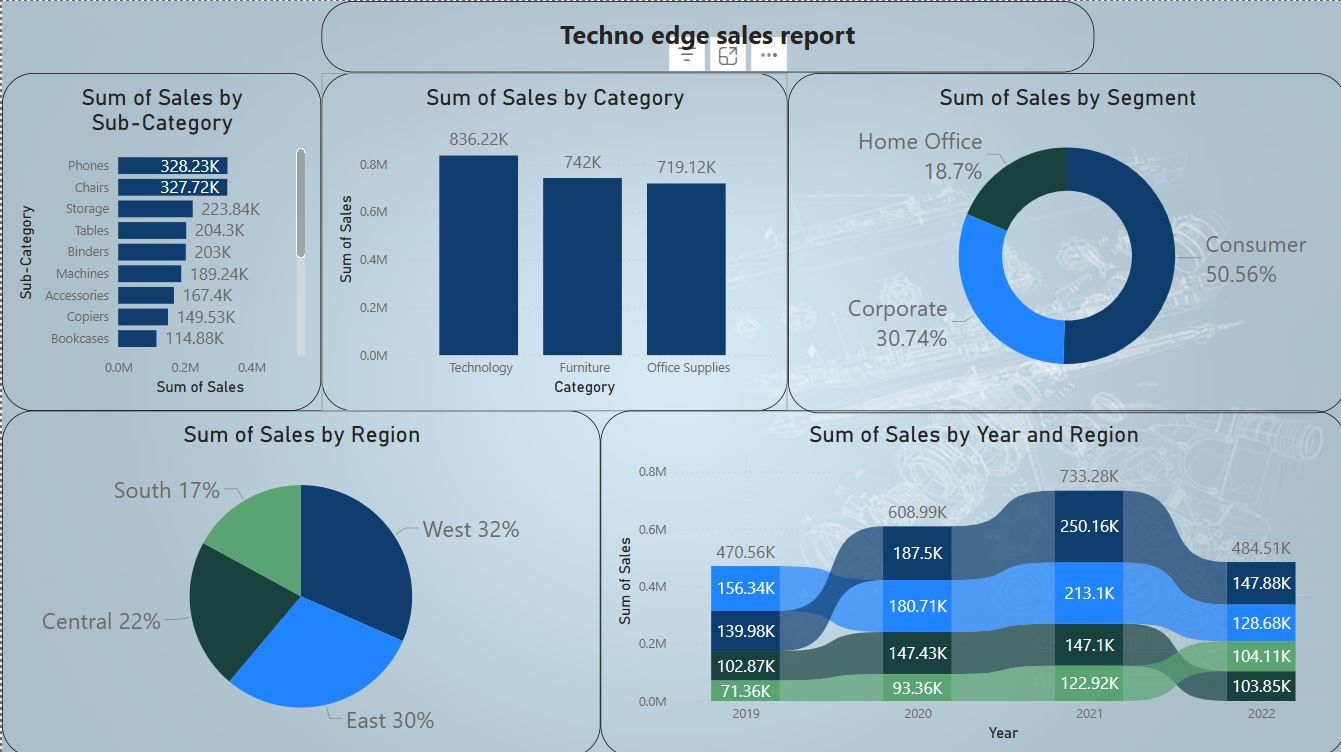

The dashboard page shown, as its layout file describes it:
{"tool":"powerbi","page":{"name":"Page 1","canvas":[1280,720],"ordinal":0},"visuals":[{"type":"clusteredBarChart","fields":{"Category":["Combine Data.Sub-Category"],"Y":["Sum(Combine Data.Sales)"]},"box":[0,68,304,322],"z":0},{"type":"pieChart","fields":{"Category":["Combine Data.Region"],"Y":["Sum(Combine Data.Sales)"]},"box":[0,390,570,330],"z":1000},{"type":"columnChart","fields":{"Category":["Combine Data.Category"],"Y":["Sum(Combine Data.Sales)"]},"box":[304,68,444,322],"z":2000},{"type":"ribbonChart","fields":{"Category":["Combine Data.Order Date.Variation.Date Hierarchy.Year","Combine Data.Order Date.Variation.Date Hierarchy.Quarter","Combine Data.Order Date.Variation.Date Hierarchy.Month","Combine Data.Order Date.Variation.Date Hierarchy.Day"],"Y":["Sum(Combine Data.Sales)"],"Series":["Combine Data.Region"]},"box":[570,390,710,330],"z":3000},{"type":"textbox","box":[304,0,736,68],"z":4000},{"type":"donutChart","fields":{"Category":["Combine Data.Segment"],"Y":["Sum(Combine Data.Sales)"]},"box":[748,68,532,324],"z":5000}]}

Visuals, with their boxes in screenshot pixels (x1, y1, x2, y2), scaled from the page's 1280x720 canvas onto the 1341x752 screenshot:
clusteredBarChart - Combine Data.Sub-Category x Sum(Combine Data.Sales): select_region(0, 71, 318, 407)
pieChart - Combine Data.Region x Sum(Combine Data.Sales): select_region(0, 407, 597, 751)
columnChart - Combine Data.Category x Sum(Combine Data.Sales): select_region(318, 71, 784, 407)
ribbonChart - Combine Data.Order Date.Variation.Date Hierarchy.Year x Combine Data.Order Date.Variation.Date Hierarchy.Quarter: select_region(597, 407, 1340, 751)
textbox: select_region(318, 0, 1090, 71)
donutChart - Combine Data.Segment x Sum(Combine Data.Sales): select_region(784, 71, 1340, 409)
